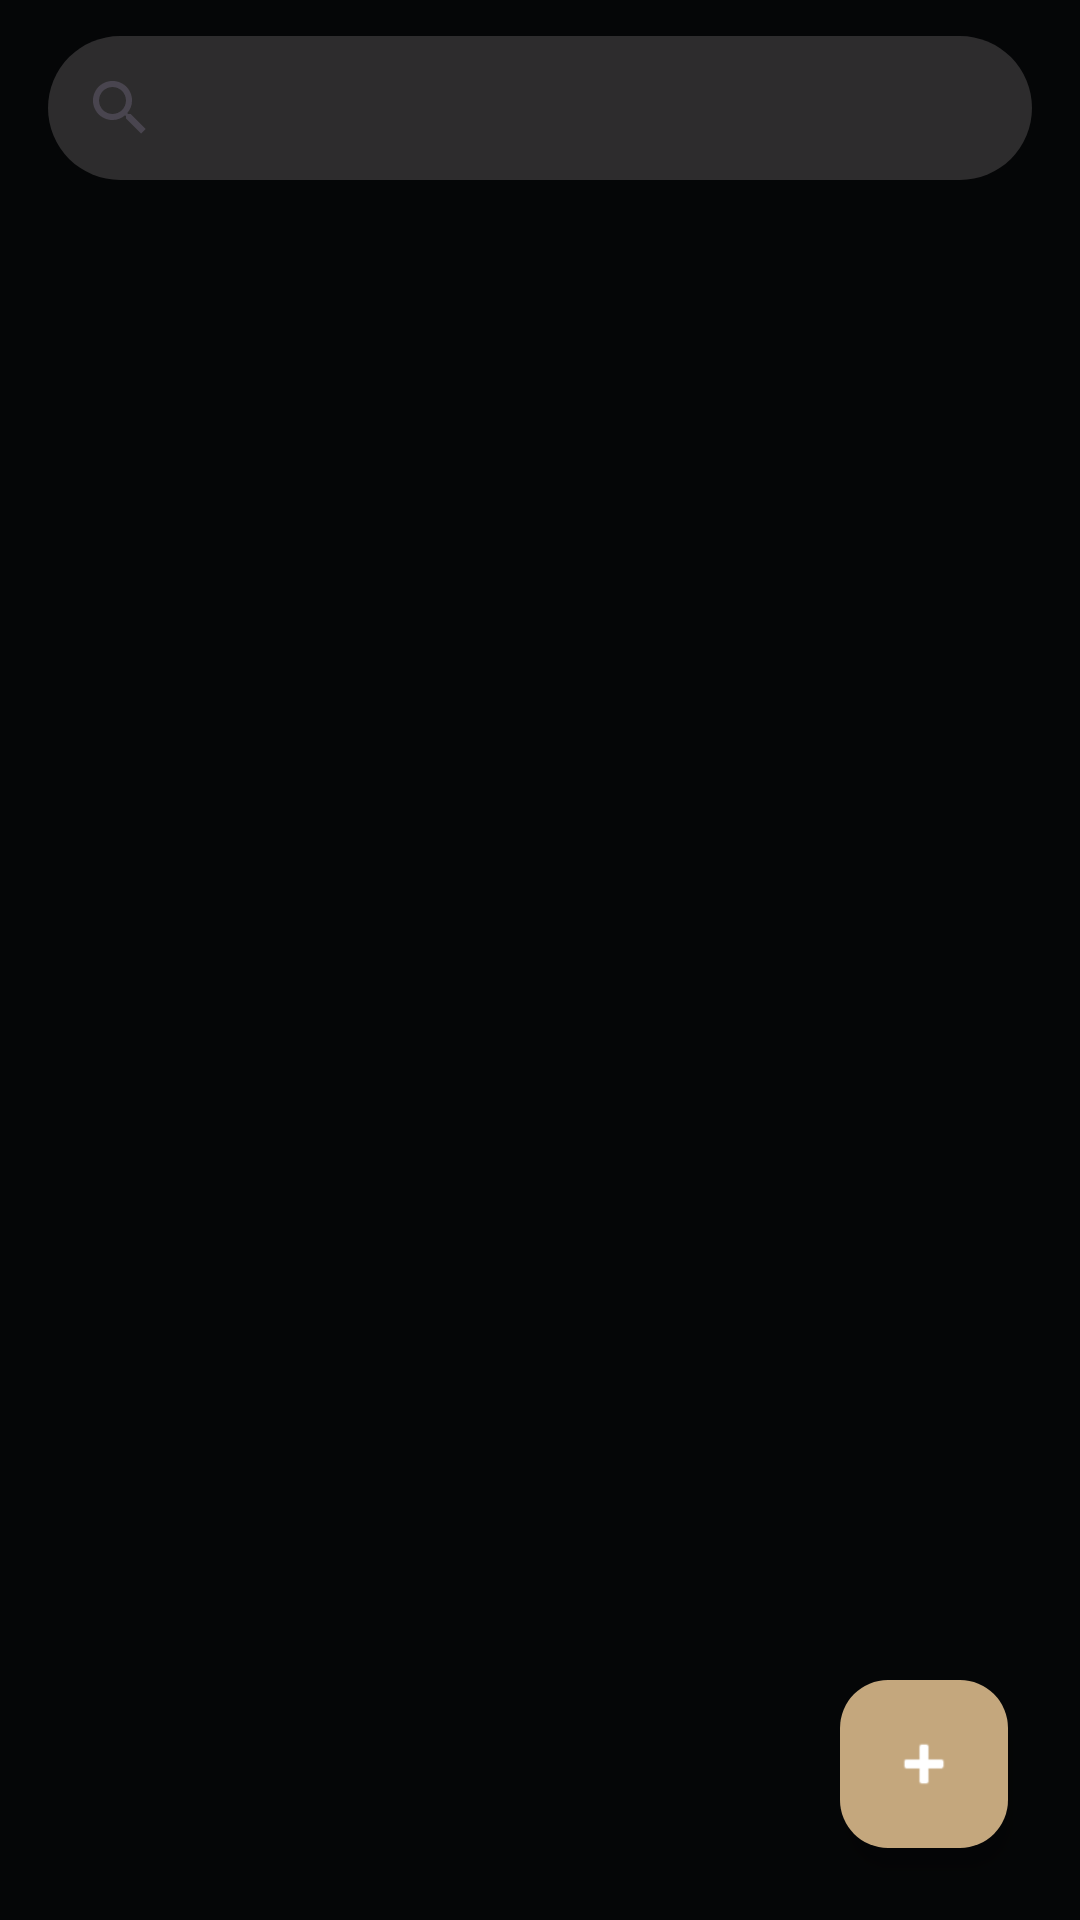

Screen size 1080px x 1920px. Icon name, then its center in pixels as point (x, y):
Thêm: point (924, 1764)
